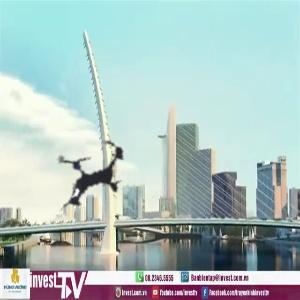drone: (25, 108, 159, 242)
